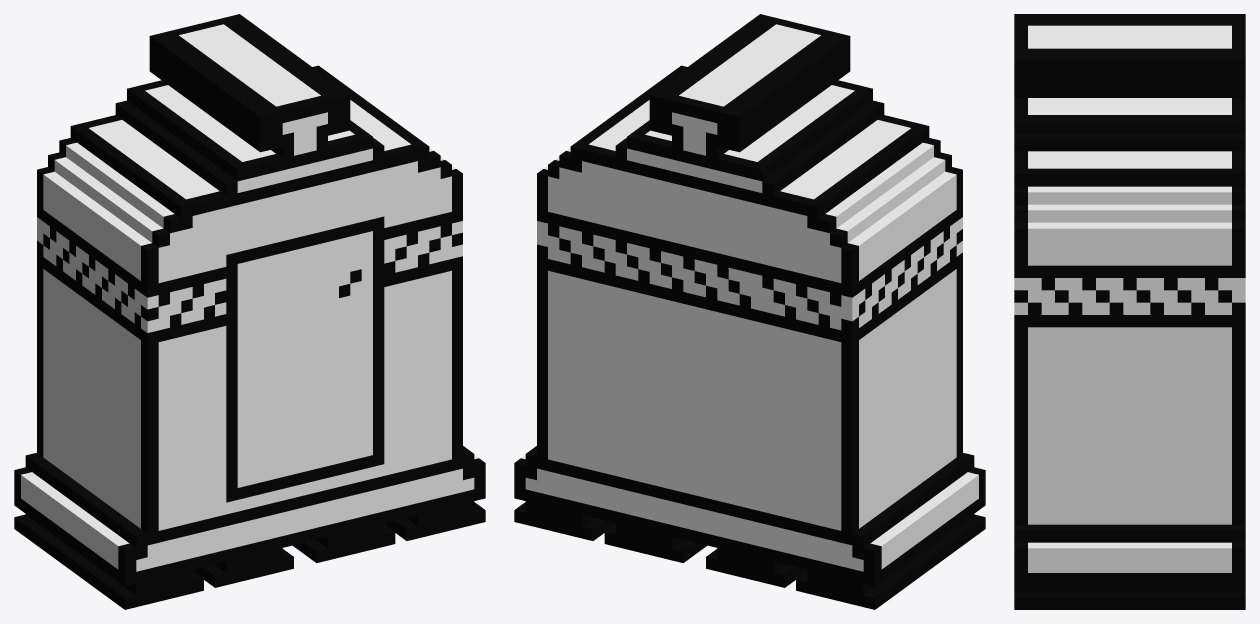
The model's file is capsule-onion.obj.
3 renders of one model, left to right at view 1: azimuth 30°, elevation 25°; view 2: azimuth 150°, elevation 25°; view 3: azimuth 270°, elevation 25°, orthographic. The views are drawn at different scales.
Parts seen in each view (by area): view 1: Capsule-Onion; view 2: Capsule-Onion; view 3: Capsule-Onion.
Boxes of the visible parts, x1,y1,x2,y2 form: Capsule-Onion: [14, 14, 485, 609]; Capsule-Onion: [514, 14, 985, 609]; Capsule-Onion: [1014, 14, 1245, 609].
Bounding box in the file's own units: 3.2 × 3.9 × 1.7.
1 material, 1 textured.
